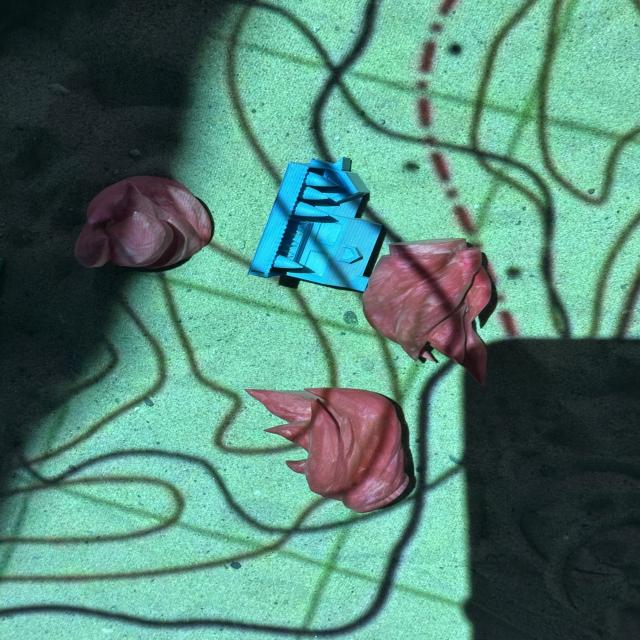fire: (248, 382, 419, 514), (361, 232, 502, 380), (62, 172, 220, 272)
house: (247, 156, 386, 293)
